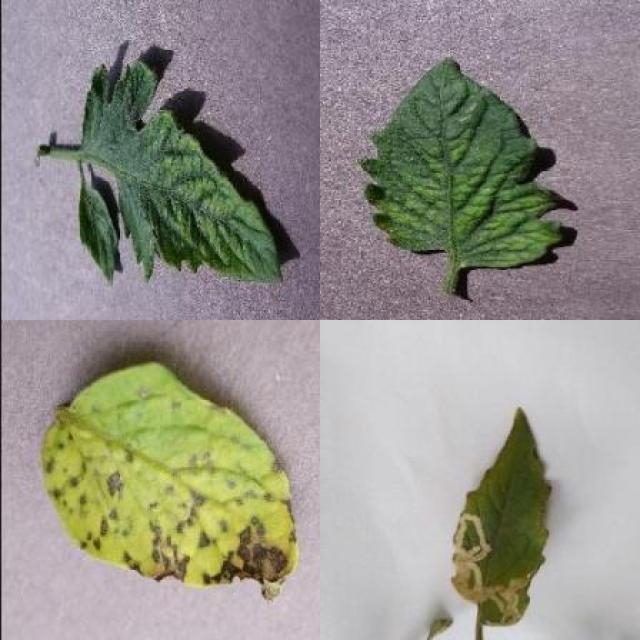Leaf Miner: (447, 410, 554, 627)
Mosaic Virus: (75, 58, 285, 288), (357, 57, 563, 269)
Septoria: (40, 363, 297, 603)
